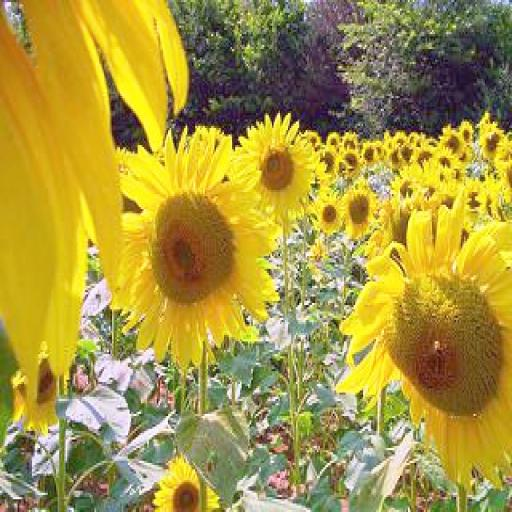sunflower: (337, 204, 512, 488), (101, 122, 280, 369), (240, 111, 314, 215), (152, 454, 222, 512), (342, 184, 373, 232), (310, 194, 344, 235), (442, 126, 466, 160), (499, 160, 512, 205), (342, 147, 362, 175), (485, 128, 504, 156)
